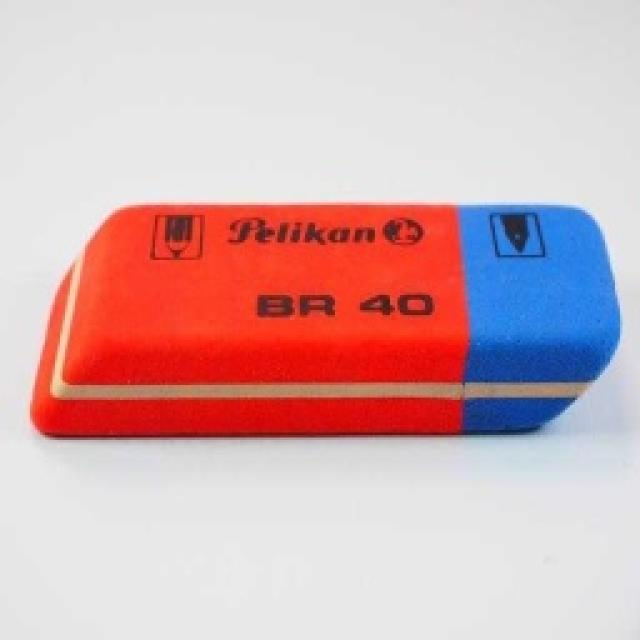Silgi: (30, 197, 623, 440)
